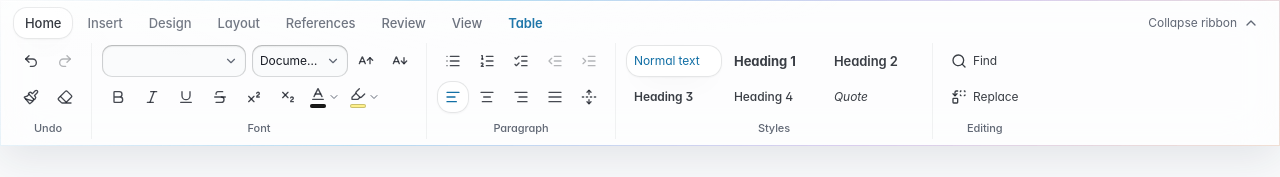
Test case: DocumentToolbar table cells › keeps merge and split off while the cursor sits in a single plain cell
The image size is (1280, 177).
What coordinates should you click on to do the following:
click the tab "Table"
I would click on:
 (525, 23)
Its box is top-left (496, 7), bottom-right (555, 39).
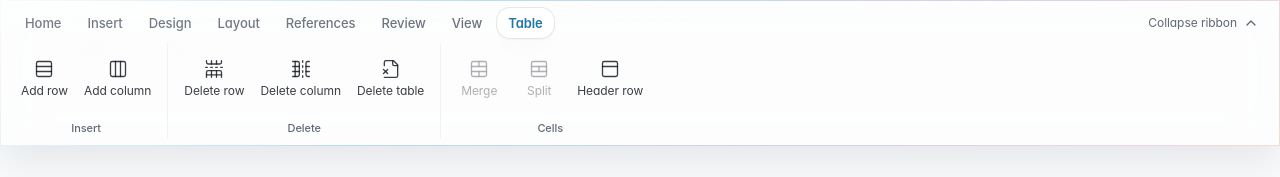
Check: the button with test id "doc-merge-cells" is disabled, box top-left (451, 46), bottom-right (507, 110)
Check: the button with test id "doc-split-cell" is disabled, box top-left (511, 46), bottom-right (567, 110)
